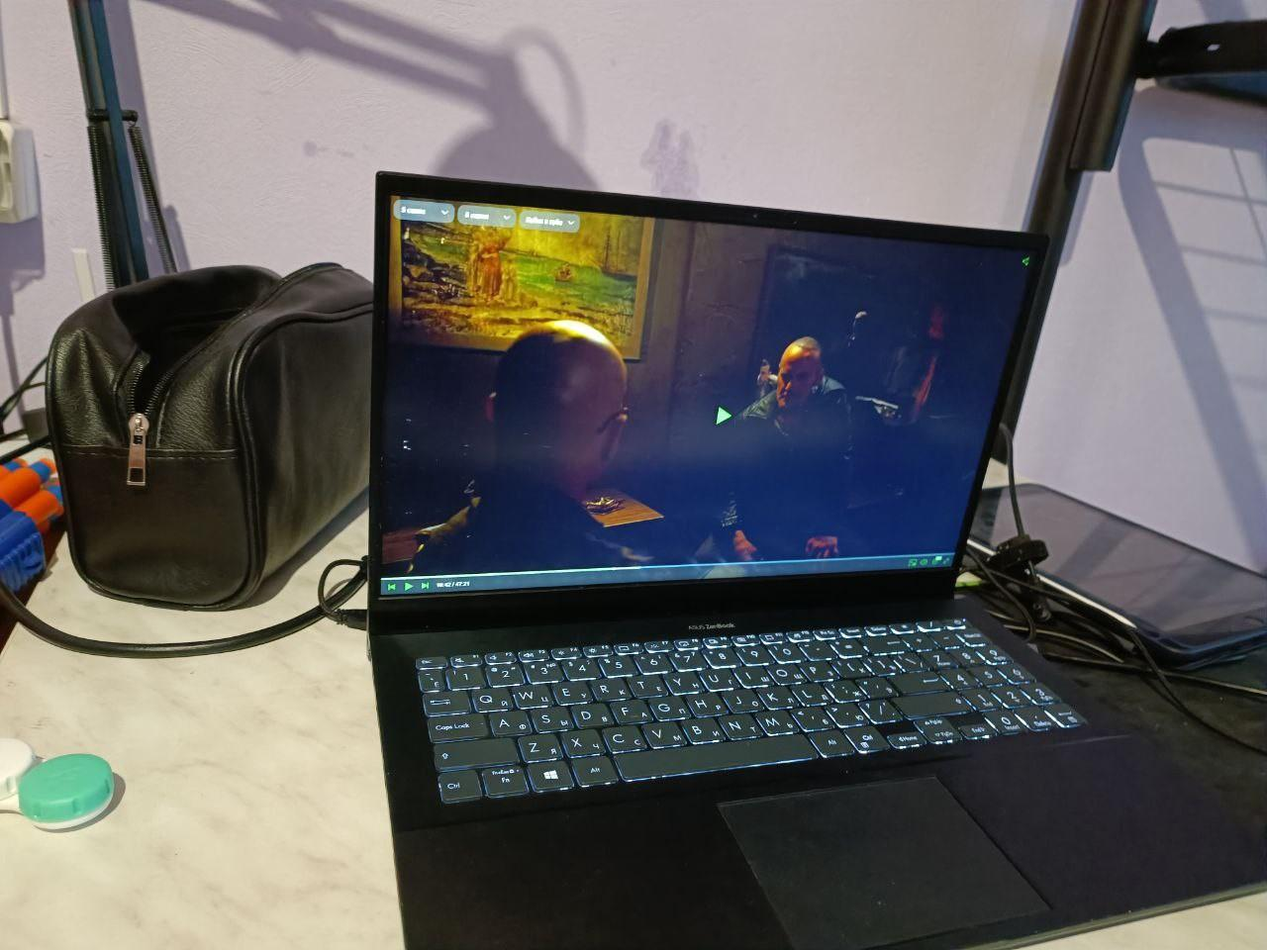monitor: (363, 163, 1056, 648)
